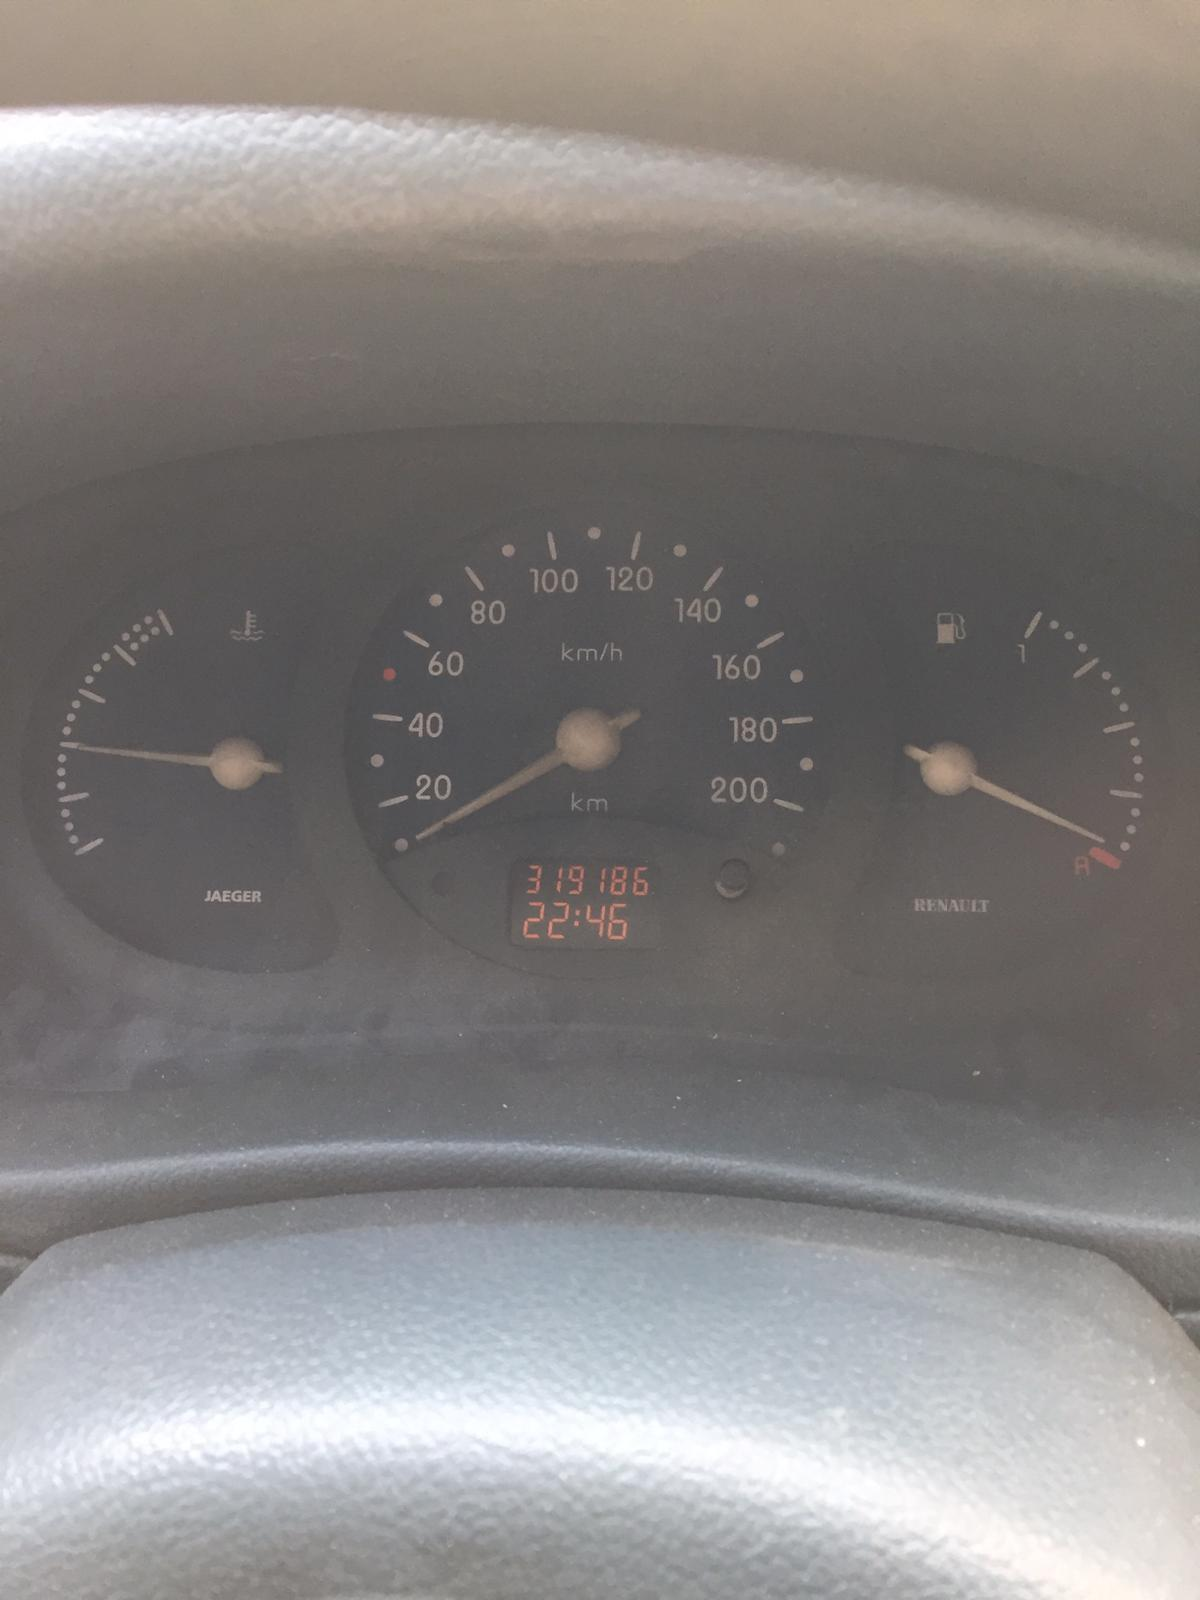1: (597, 866, 606, 894), (556, 864, 563, 893)
2: (522, 901, 545, 939), (547, 901, 568, 939)
3: (524, 864, 542, 894)
4: (585, 905, 605, 937)
6: (606, 903, 626, 939), (632, 866, 649, 894)
8: (610, 866, 628, 894)
9: (567, 866, 585, 894)
X: (572, 908, 580, 927)
odometer: (505, 855, 663, 950)
